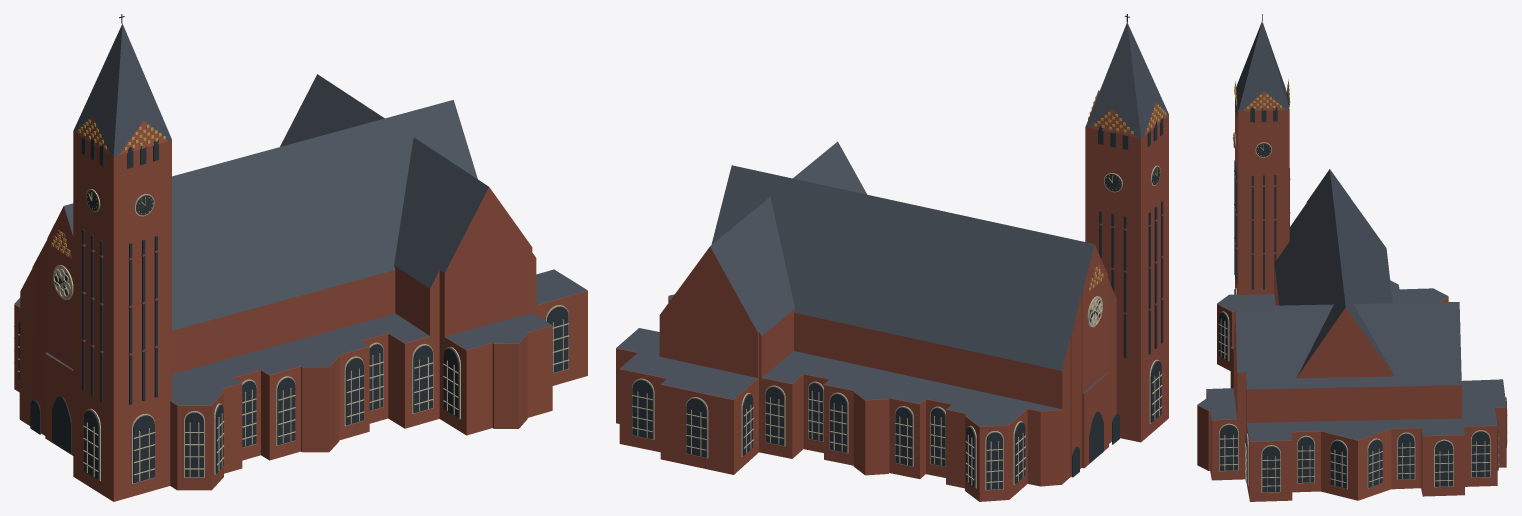
File: vredeskerk.glb
The picture shows the model from 3 angles, left to right: view 1: azimuth 30°, elevation 25°; view 2: azimuth 150°, elevation 25°; view 3: azimuth 270°, elevation 25°; orthographic projection. The views are drawn at different scales.
Parts seen in each view (by area): view 1: vredeskerk; view 2: vredeskerk; view 3: vredeskerk.
Part boxes in pixels (<box>): vredeskerk: <box>14,14,587,501</box>; vredeskerk: <box>616,14,1168,501</box>; vredeskerk: <box>1197,14,1507,501</box>.
Bounding box in the file's own units: 55.2 × 49.97 × 42.6.
